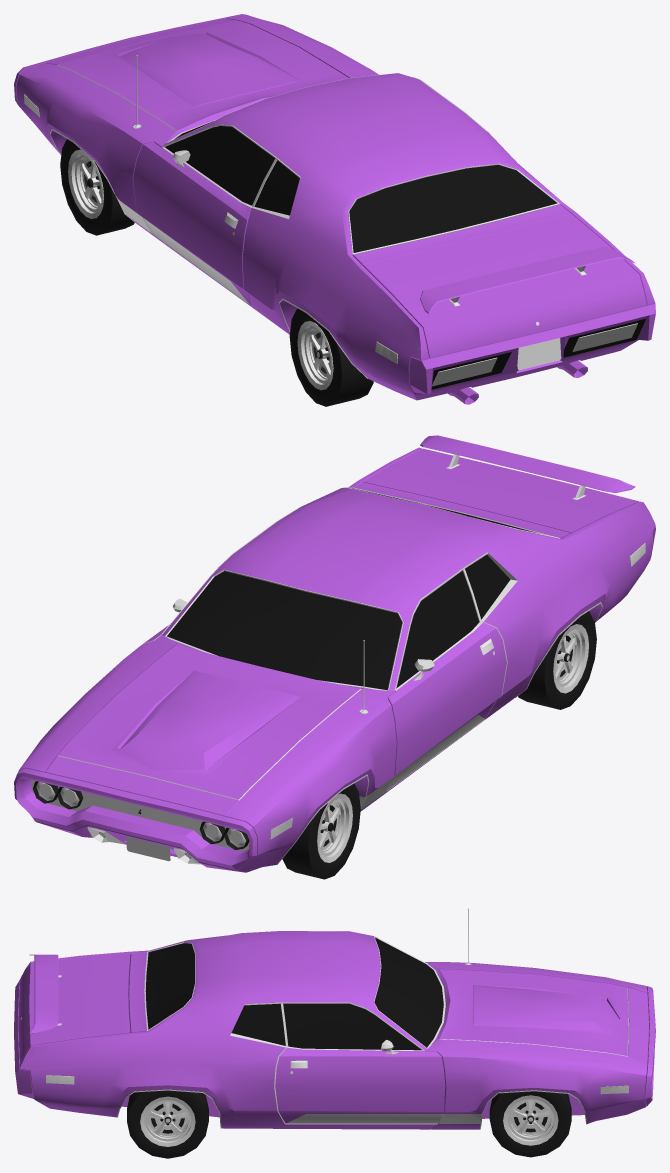
Rendered from Car1.fbx.
The picture shows the model from 3 angles, top to bottom: view 1: azimuth 30°, elevation 25°; view 2: azimuth 150°, elevation 25°; view 3: azimuth 270°, elevation 25°; orthographic projection. The views are drawn at different scales.
Parts seen in each view (by area): view 1: Car1; view 2: Car1; view 3: Car1.
Part boxes in pixels (x1,y1,x2,y2): Car1: (14,14,655,406); Car1: (14,435,655,879); Car1: (14,908,655,1158).
Bounding box in the file's own units: 435 × 305 × 1118.
